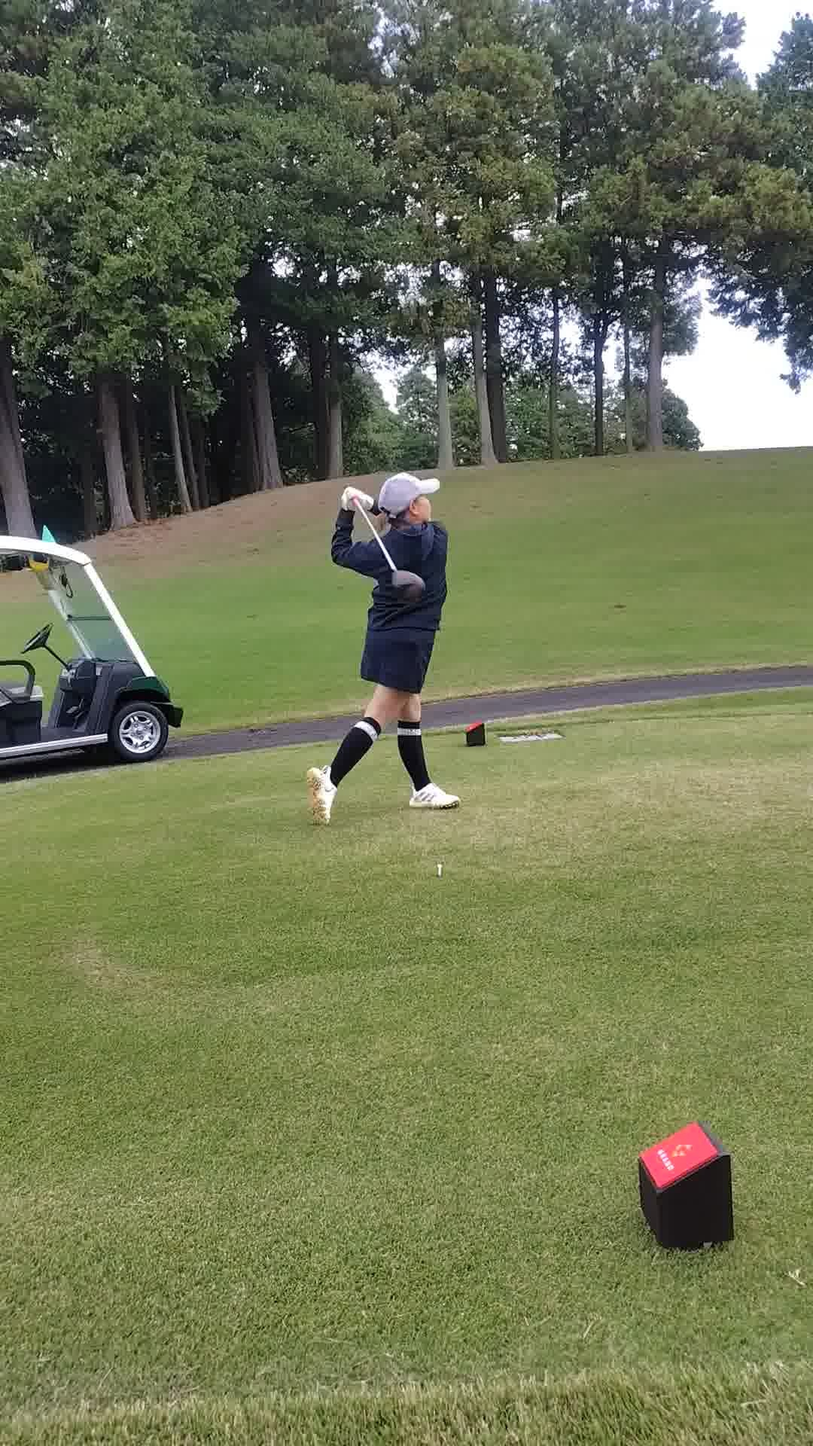clubhead: (384, 554, 492, 672)
